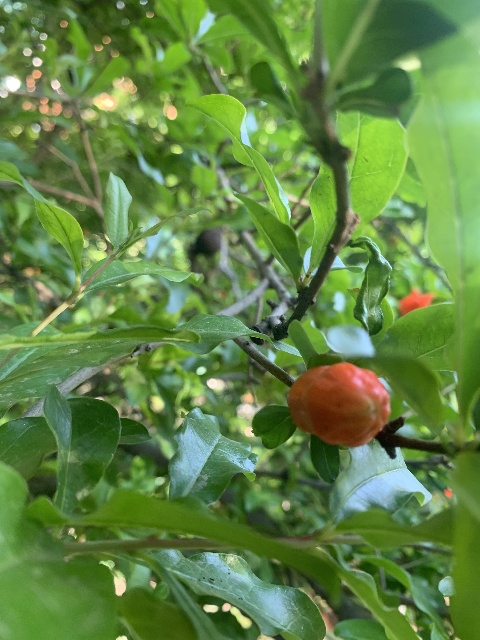bud: (287, 362, 390, 447)
flower: (398, 287, 434, 317)
